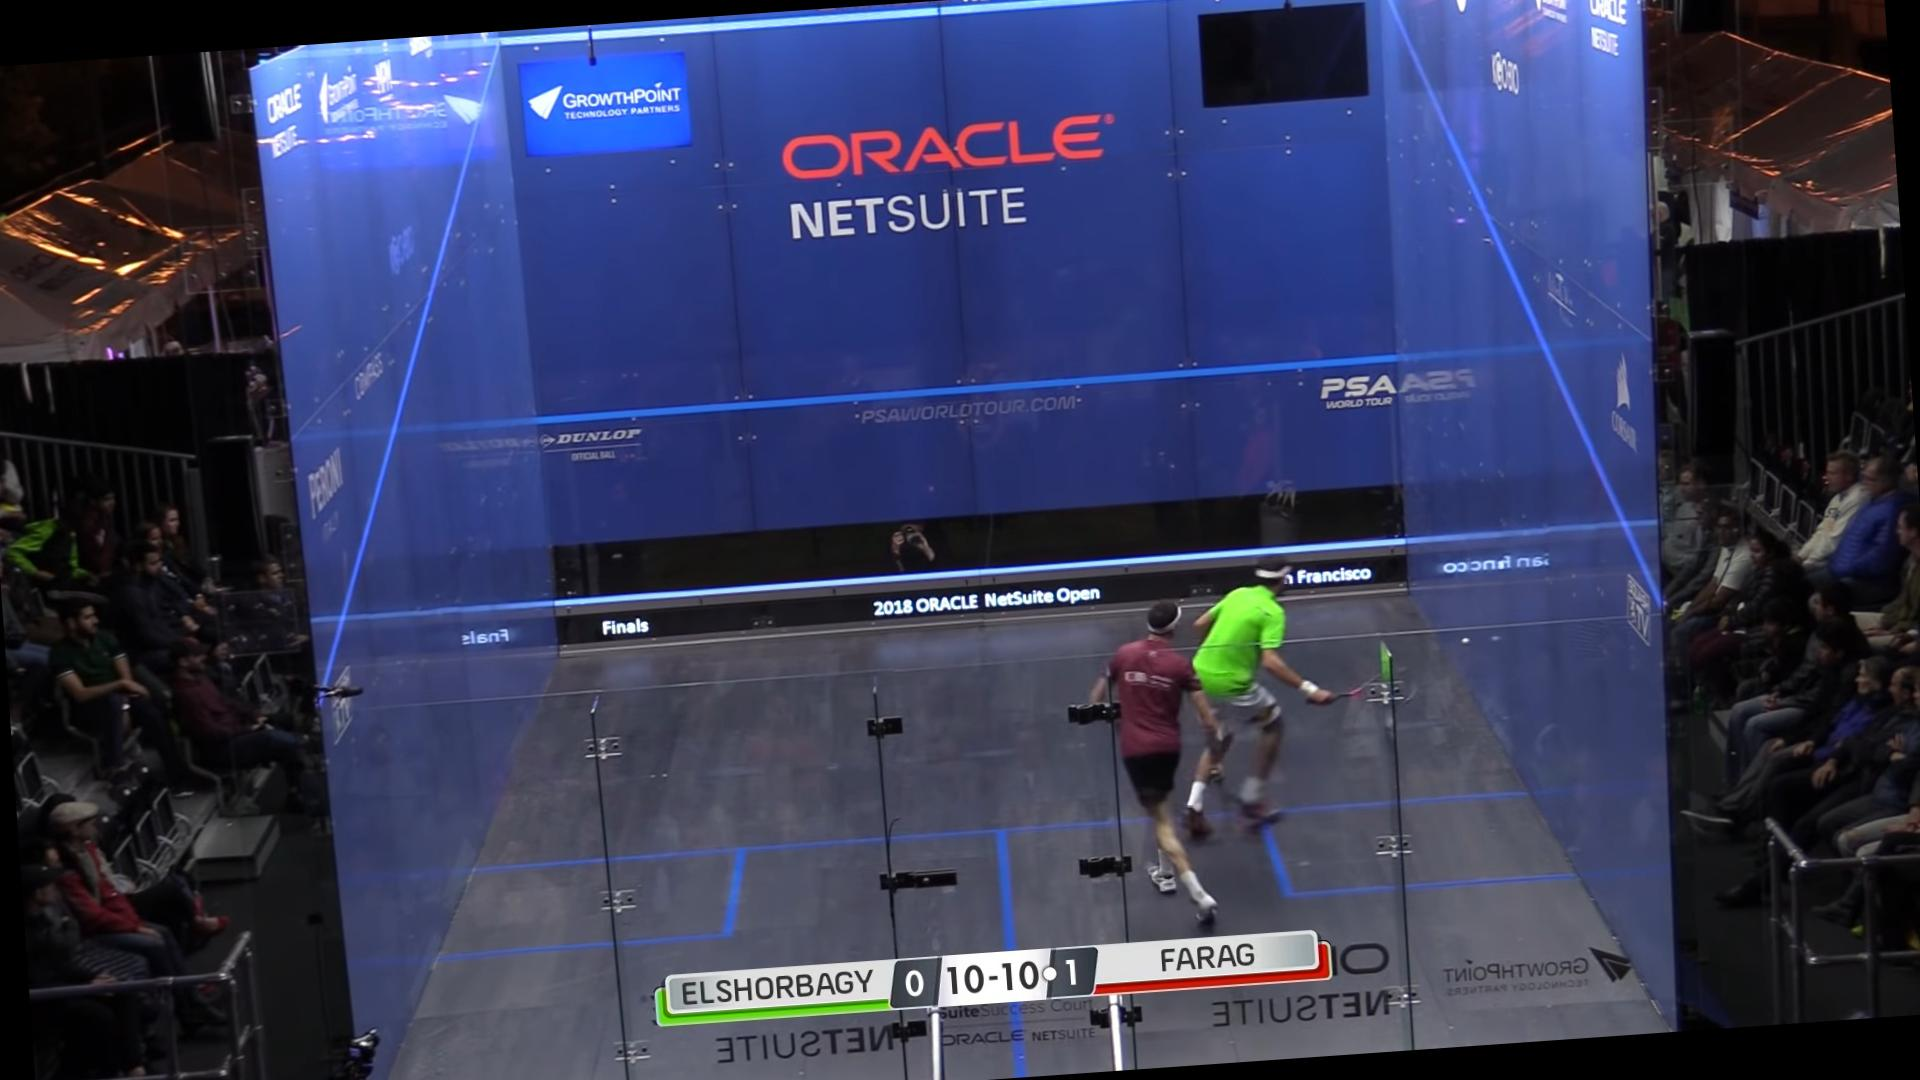Squash-Ball: (1455, 615, 1476, 665)
